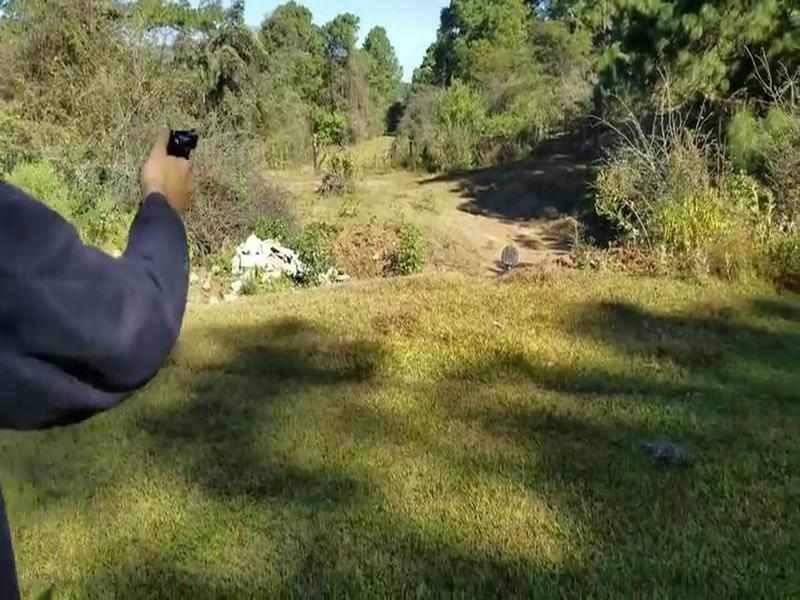Revolver: (150, 111, 203, 175)
